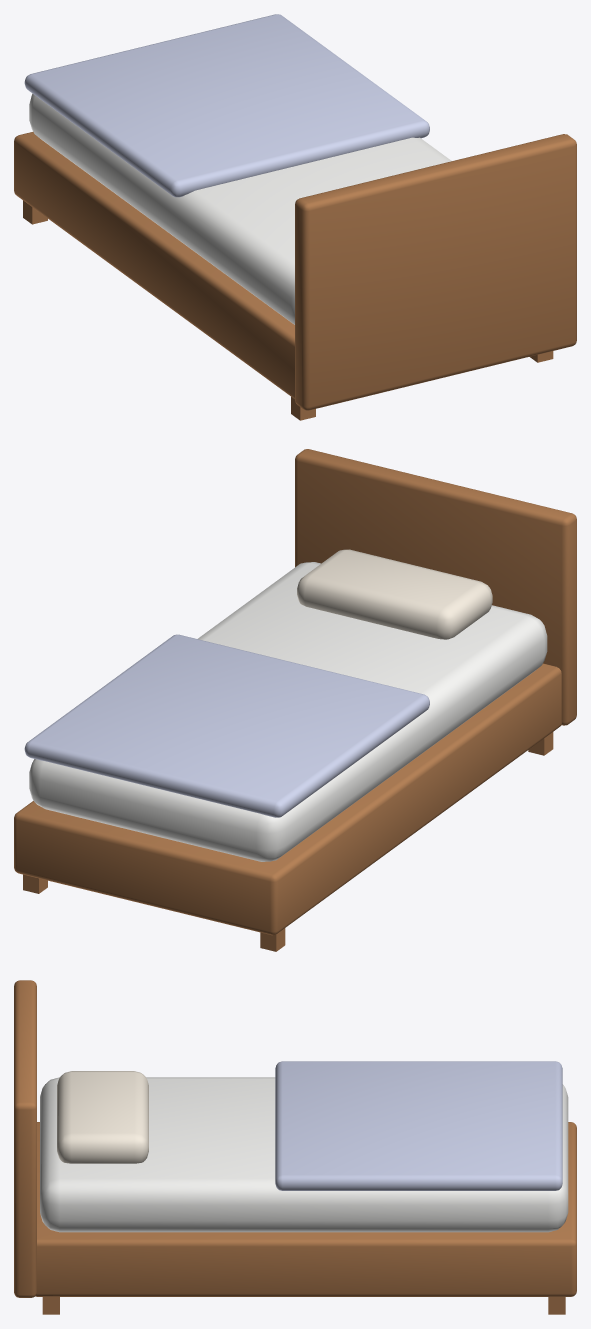
The model's file is bed.glb.
The picture shows the model from 3 angles, top to bottom: view 1: azimuth 30°, elevation 25°; view 2: azimuth 150°, elevation 25°; view 3: azimuth 270°, elevation 25°; orthographic projection. The views are drawn at different scales.
Parts seen in each view (by area): view 1: head.002, blanket, mattress, frame.002; view 2: blanket, mattress, frame.002, head.002, pillow; view 3: mattress, blanket, frame.002, pillow, head.002.
Part boxes in pixels (bbox=[...]): head.002: bbox=[295, 134, 576, 410]; blanket: bbox=[24, 14, 429, 197]; mattress: bbox=[29, 93, 451, 324]; frame.002: bbox=[14, 132, 294, 398]; blanket: bbox=[24, 634, 429, 817]; mattress: bbox=[29, 562, 547, 861]; frame.002: bbox=[14, 663, 561, 935]; head.002: bbox=[295, 449, 576, 725]; pillow: bbox=[297, 549, 492, 639]; mattress: bbox=[40, 1077, 568, 1232]; blanket: bbox=[275, 1061, 562, 1190]; frame.002: bbox=[35, 1122, 576, 1296]; pillow: bbox=[57, 1071, 148, 1163]; head.002: bbox=[14, 980, 36, 1297].
Bounding box in the file's own units: 1.04 × 0.825 × 1.96.
